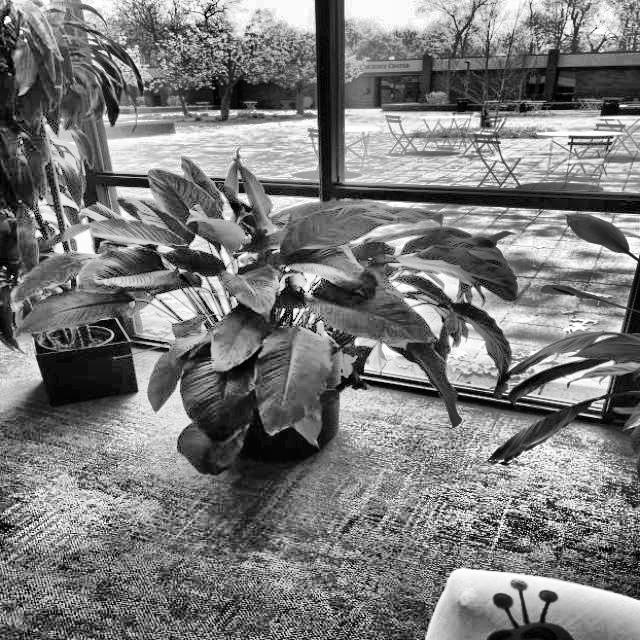plants: (171, 178, 432, 460), (3, 0, 163, 370)
